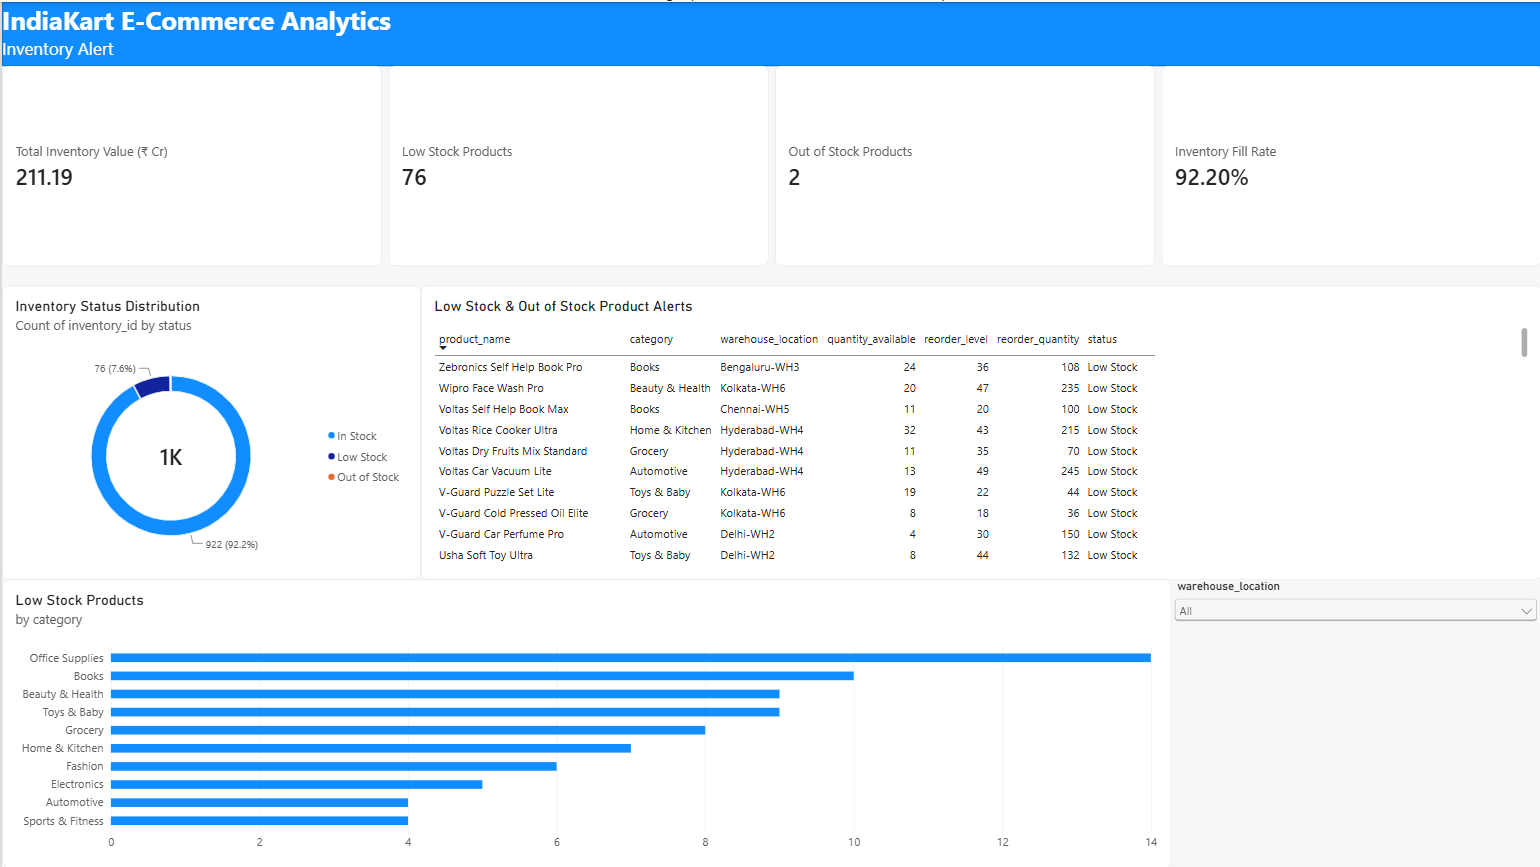

This screenshot's page, from the dashboard's own definition file:
{"tool":"powerbi","page":{"name":"Inventory Alert","canvas":[1920,1080],"ordinal":4},"visuals":[{"type":"shape","box":[0,0,1920,80],"z":0},{"type":"textbox","box":[0,0,1920,80],"z":1},{"type":"cardVisual","fields":{"Data":["Customers.Total Inventory Value Cr","Customers.Low Stock Products","Customers.Out of Stock Products","Inventory.Inventory Fill Rate"]},"box":[0,80,1920,250],"z":2},{"type":"donutChart","title":"Inventory Status Distribution","fields":{"Category":["Inventory.status"],"Y":["CountNonNull(Inventory.inventory_id)"]},"box":[0,354,522,366],"z":3},{"type":"clusteredBarChart","fields":{"Category":["Products.category"],"Y":["Inventory.Low Stock Products"]},"box":[0,720,1458,360],"z":4},{"type":"tableEx","title":"Low Stock & Out of Stock Product Alerts","fields":{"Values":["Products.product_name","Products.category","Inventory.warehouse_location","Inventory.quantity_available","Inventory.reorder_level","Inventory.reorder_quantity","Inventory.status"]},"box":[522,354,1398,366],"z":5},{"type":"slicer","fields":{"Values":["Inventory.warehouse_location"]},"box":[1458,720,462,360],"z":6}]}

Visuals, with their boxes in screenshot pixels (x1, y1, x2, y2), scaled from the page's 1920x1080 canvas onto the 1540x867 screenshot:
shape: 0/0/1539/64
textbox: 0/0/1539/64
cardVisual - Customers.Total Inventory Value Cr x Customers.Low Stock Products: 0/64/1539/265
"Inventory Status Distribution" donutChart: 0/284/419/578
clusteredBarChart - Products.category x Inventory.Low Stock Products: 0/578/1169/866
"Low Stock & Out of Stock Product Alerts" tableEx: 419/284/1539/578
slicer - Inventory.warehouse_location: 1169/578/1539/866
